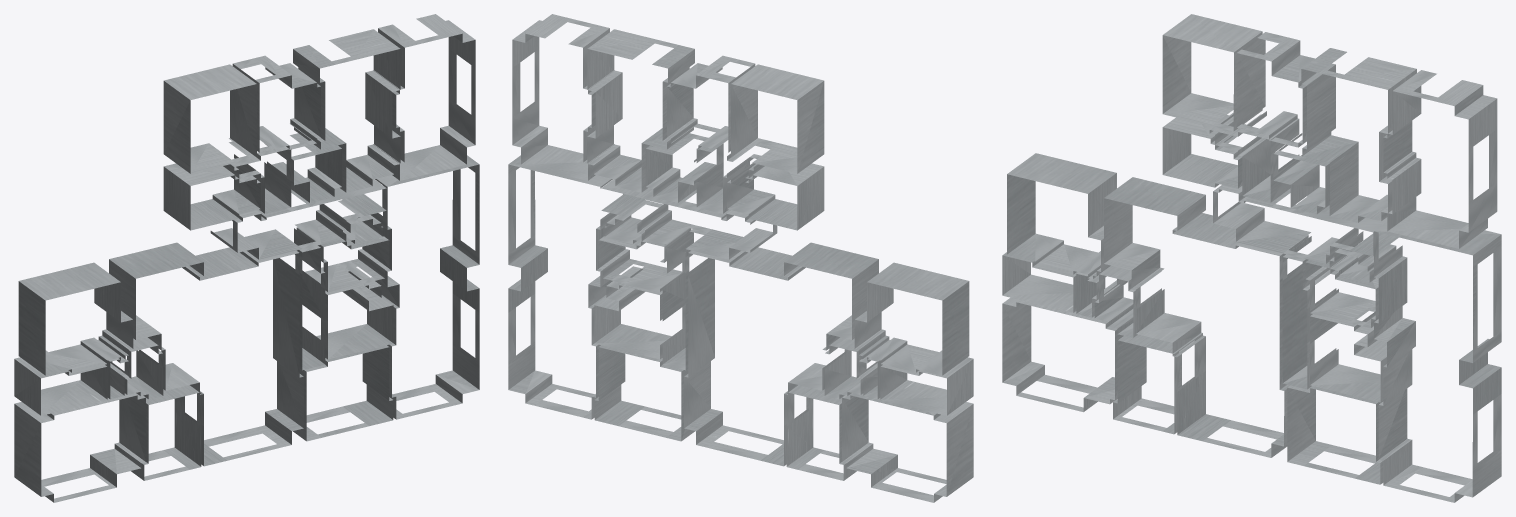
Rendered from wall.obj.
3 views of the same model, side by side, from view 1: azimuth 30°, elevation 25°; view 2: azimuth 150°, elevation 25°; view 3: azimuth 330°, elevation 25° (orthographic). The views are drawn at different scales.
Parts seen in each view (by area): view 1: scene1_wall; view 2: scene1_wall; view 3: scene1_wall.
Part boxes in pixels (x1,y1,x2,y2): scene1_wall: [14, 14, 479, 502]; scene1_wall: [508, 14, 973, 502]; scene1_wall: [1002, 14, 1501, 502].
Bounding box in the file's own units: 22.6 × 18.21 × 2.4.
1 material, 1 textured.
